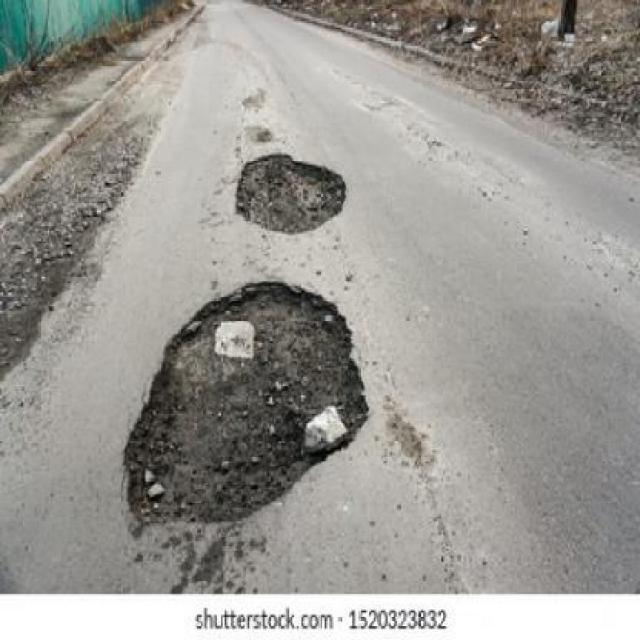Pothole: (118, 276, 372, 526), (233, 153, 347, 233)
